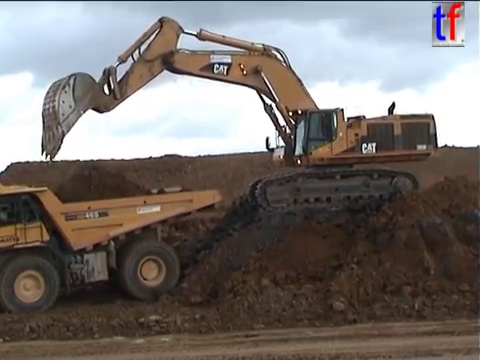excavator: (38, 13, 440, 216)
truck: (1, 180, 224, 316)
